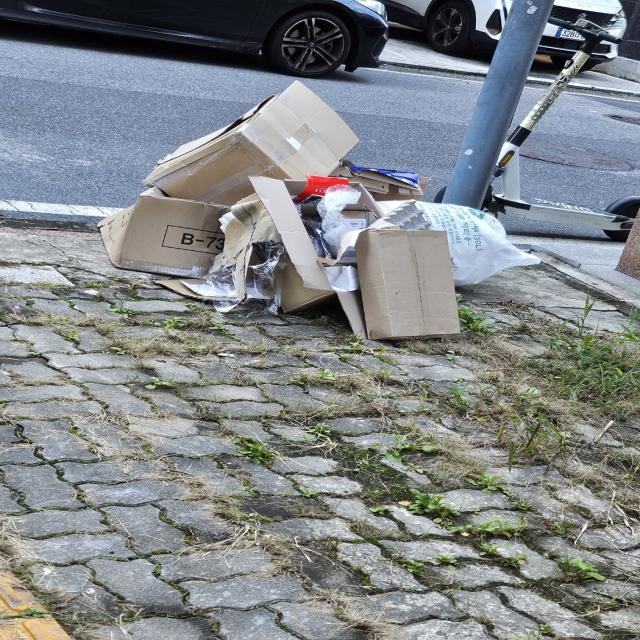General Waste: (150, 82, 368, 199), (84, 174, 261, 284), (348, 219, 480, 361), (232, 165, 332, 349)
PP bag: (363, 186, 546, 290)
